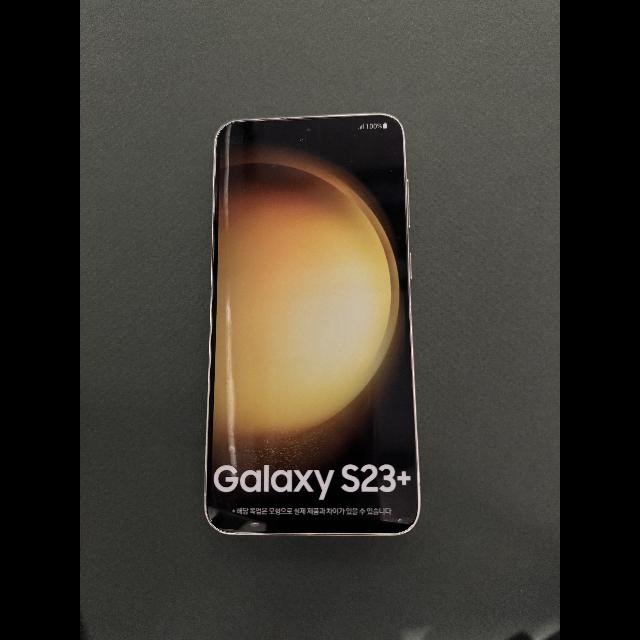lens: (305, 127, 311, 132)
phone: (204, 114, 420, 536)
